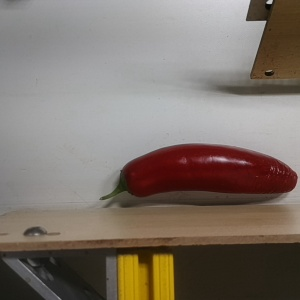Cut Point: (112, 160, 143, 198)
